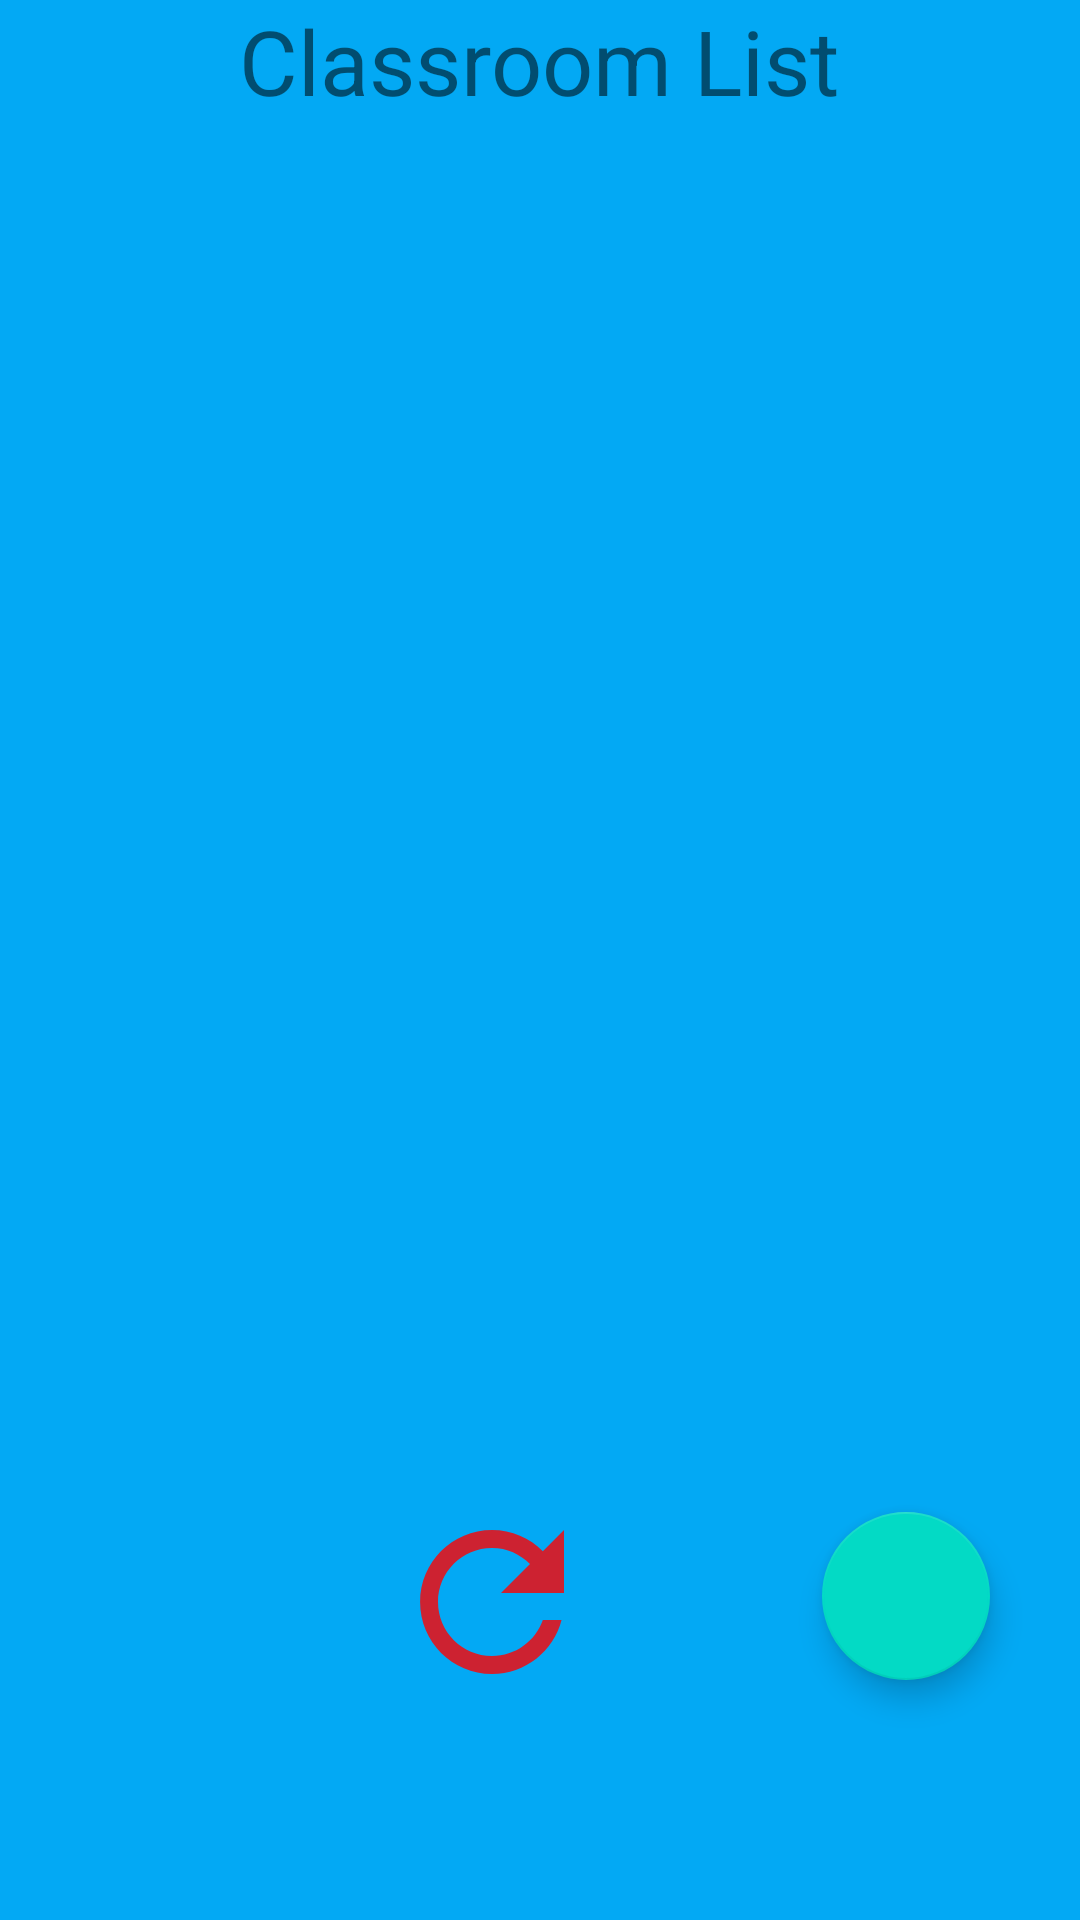

Named icons in this screenshot (1080×1920) and their bounding boxes, [x1,y1,x2,y2]:
refresh: [420,1530,564,1674]
